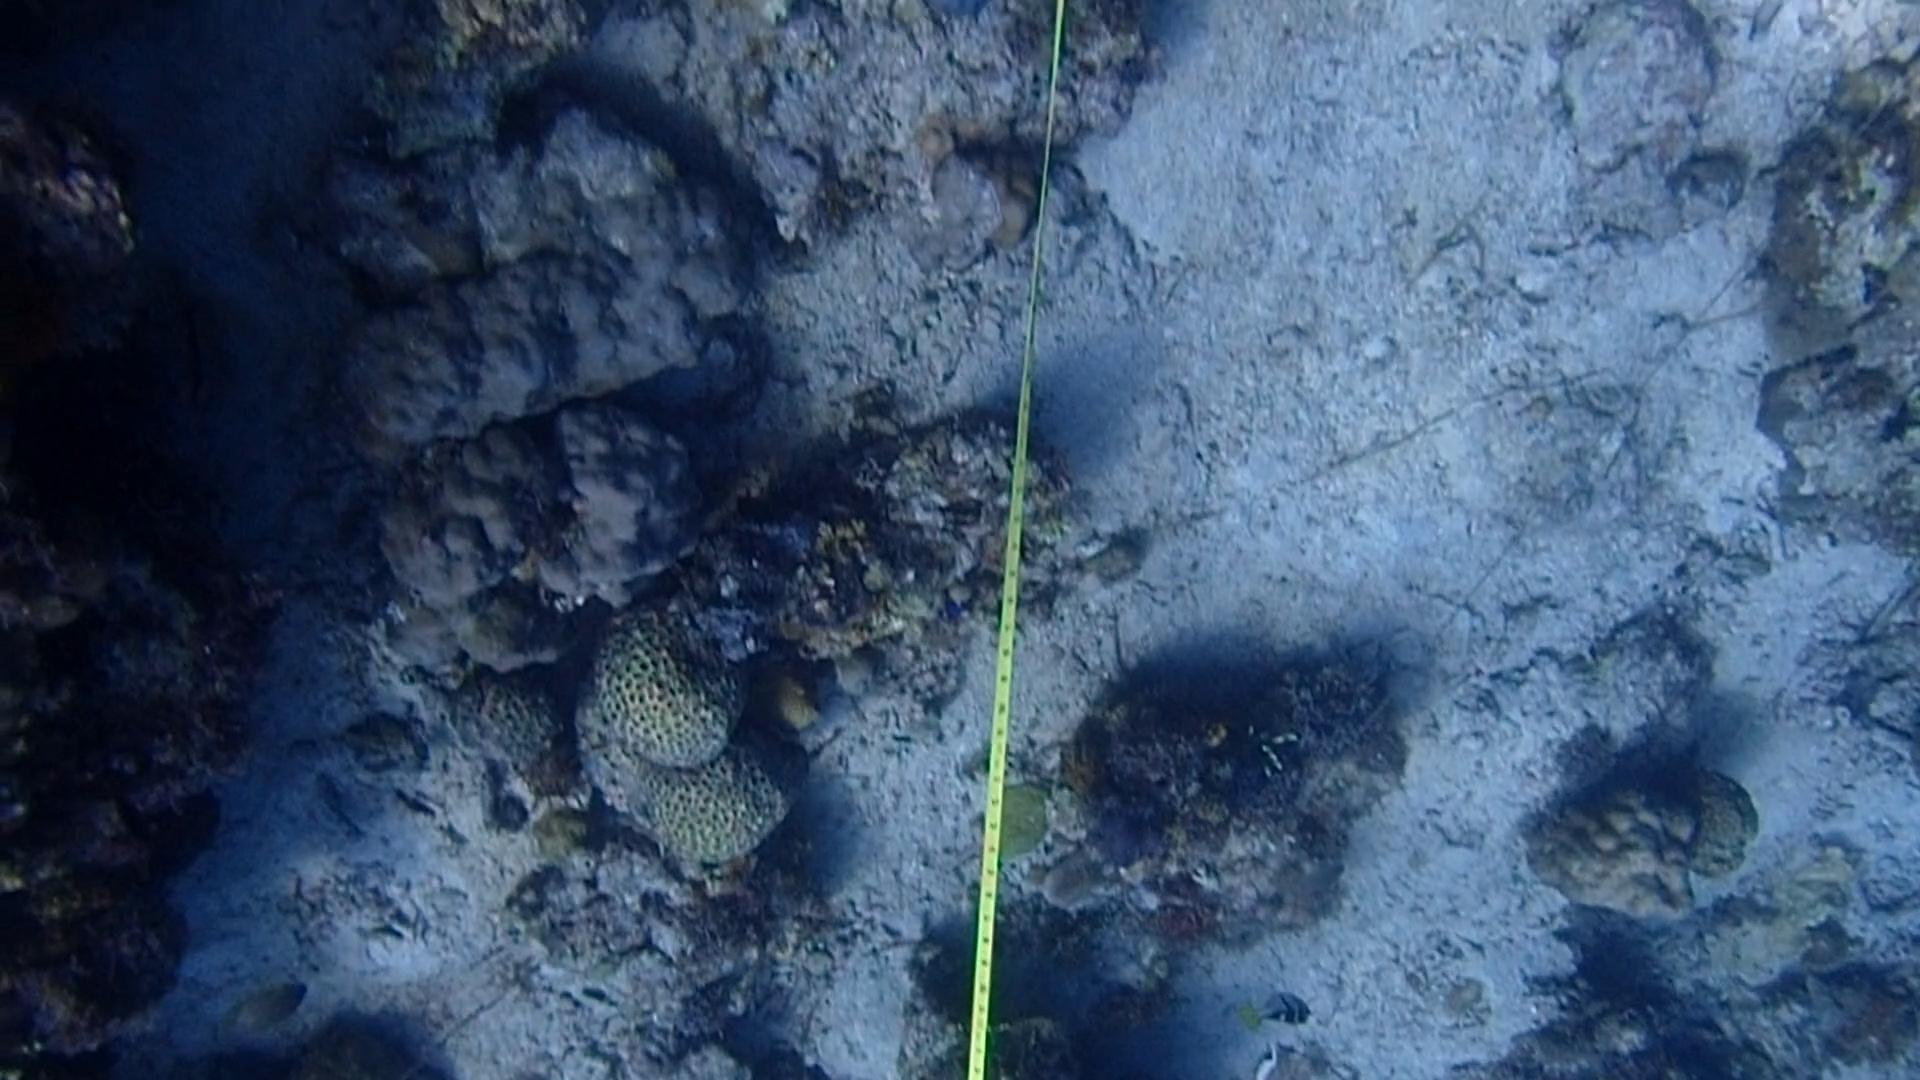Striped Fish: (1233, 988, 1329, 1036)
